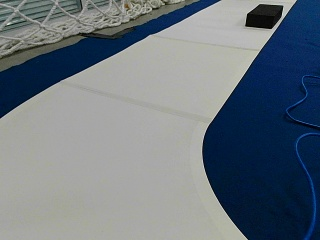block: (246, 3, 282, 27)
